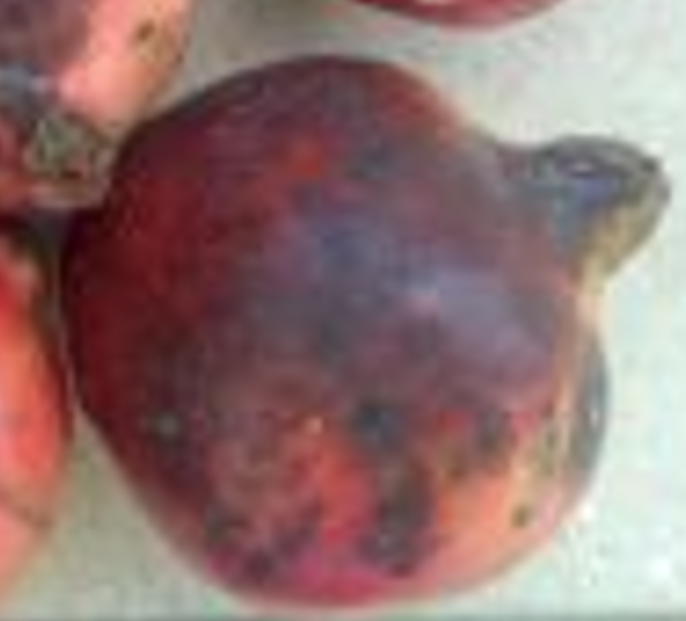pomegranate_C: (60, 57, 678, 606)
